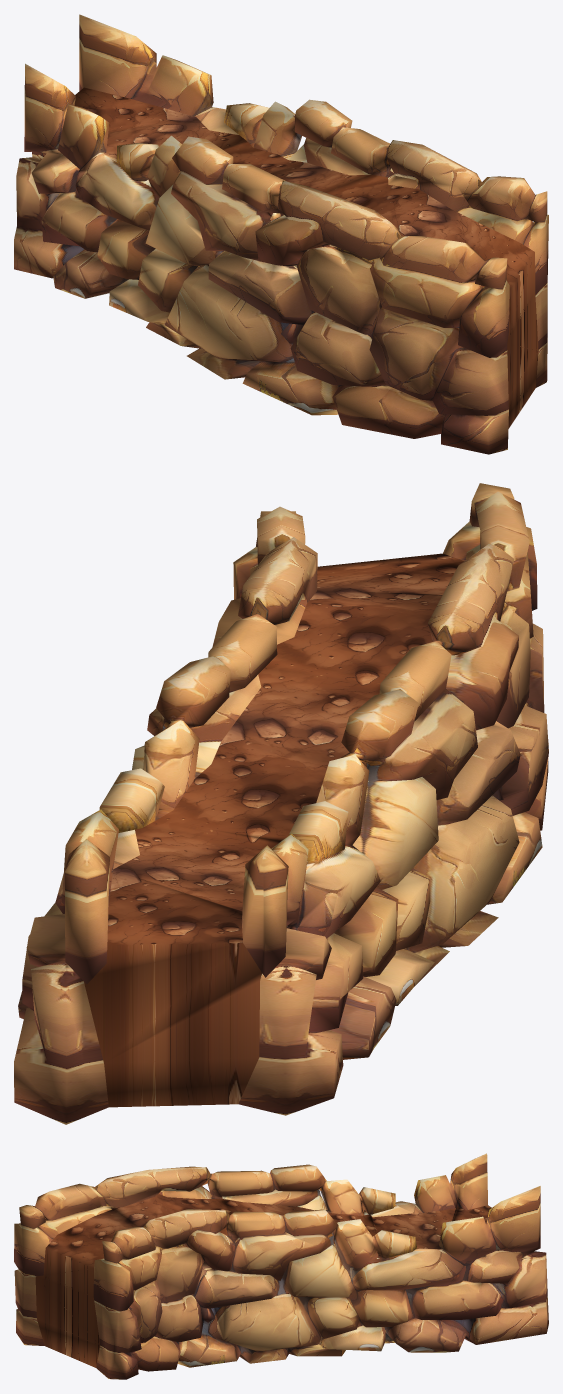
File: wall2.fbx
3 views of the same model, one above another, from view 1: azimuth 30°, elevation 25°; view 2: azimuth 150°, elevation 25°; view 3: azimuth 270°, elevation 25° (orthographic). The views are drawn at different scales.
Parts seen in each view (by area): view 1: Plane.006; view 2: Plane.006; view 3: Plane.006.
Part boxes in pixels (x1,y1,x2,y2): Plane.006: (14, 14, 548, 454); Plane.006: (14, 483, 548, 1124); Plane.006: (14, 1153, 548, 1379).
Bounding box in the file's own units: 491 × 318 × 1041.
Materials: 2 (2 with a texture image).
